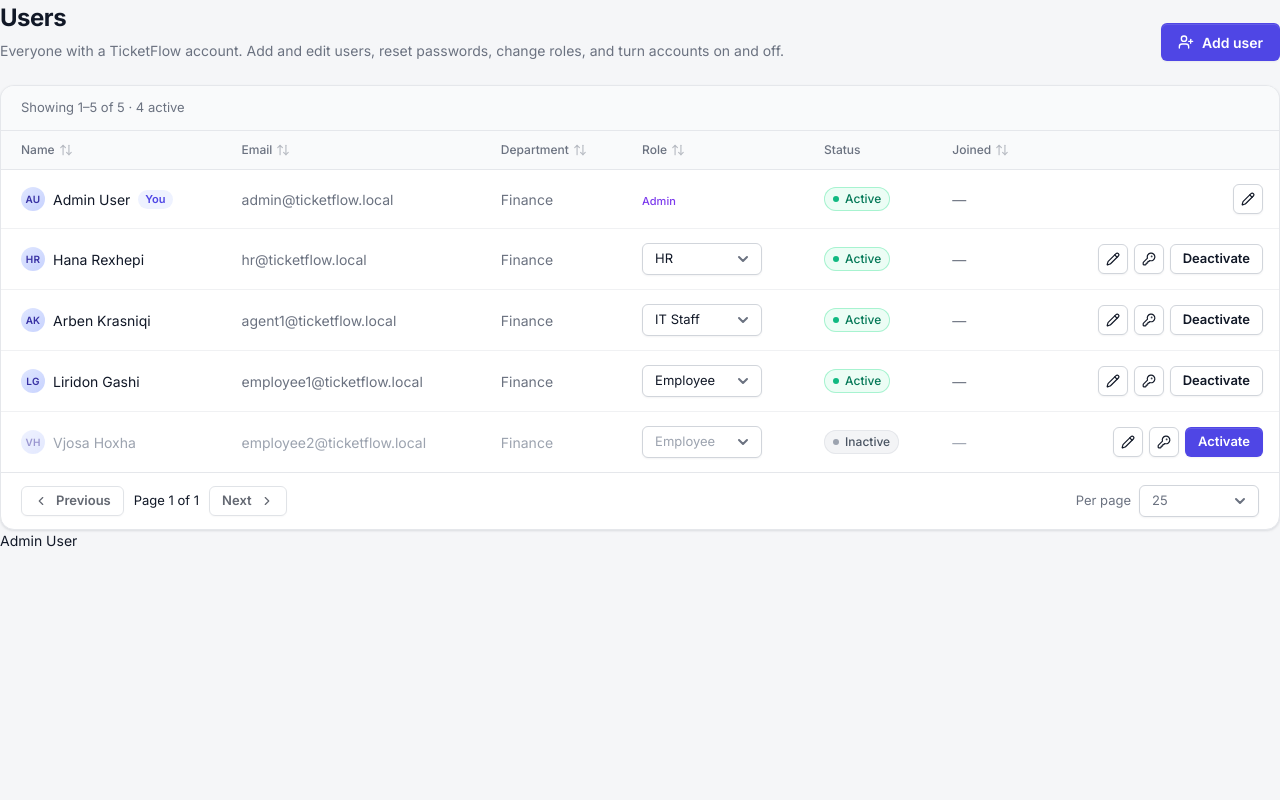
Edit user form › admin editing their own row: no role dropdown, and the logged-in user gets the new name
The width and height of the screenshot is (1280, 800).
Check: the table is shown, box [1,131,1279,472]
Click the button named "Edit Admin User" at (1248, 199), box [1233,184,1263,214]
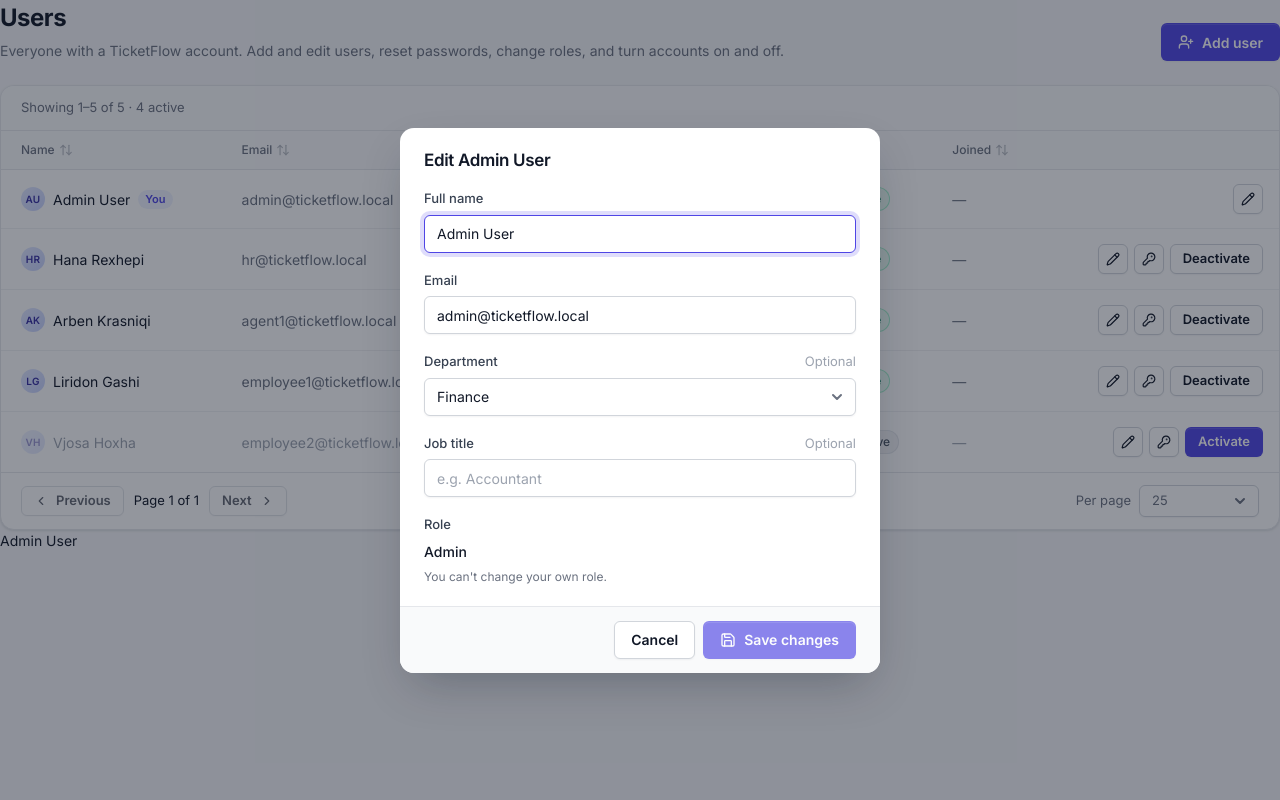
Replace the text in the field labelled "Full name" with "Head Admin" at (640, 234), box [424,214,856,252]
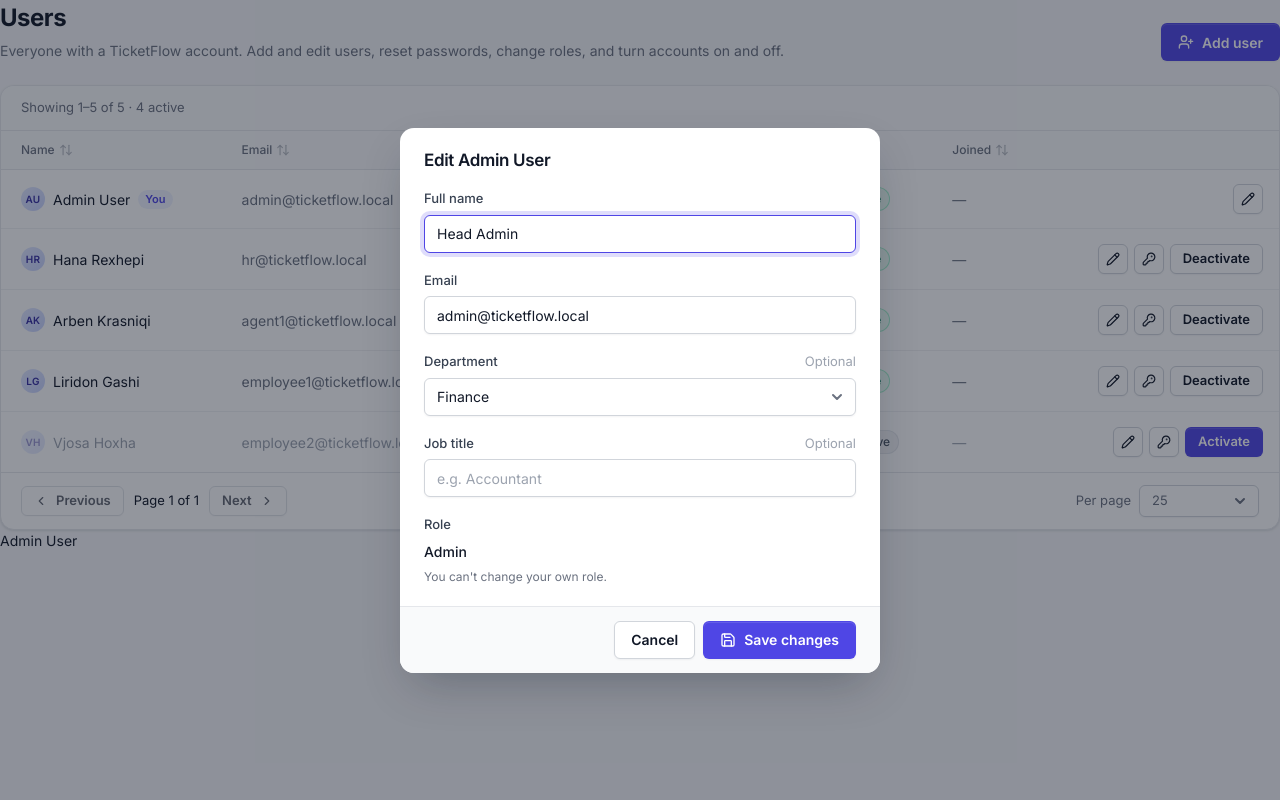
Click the button "Save changes" at (780, 640), box [703,620,856,658]
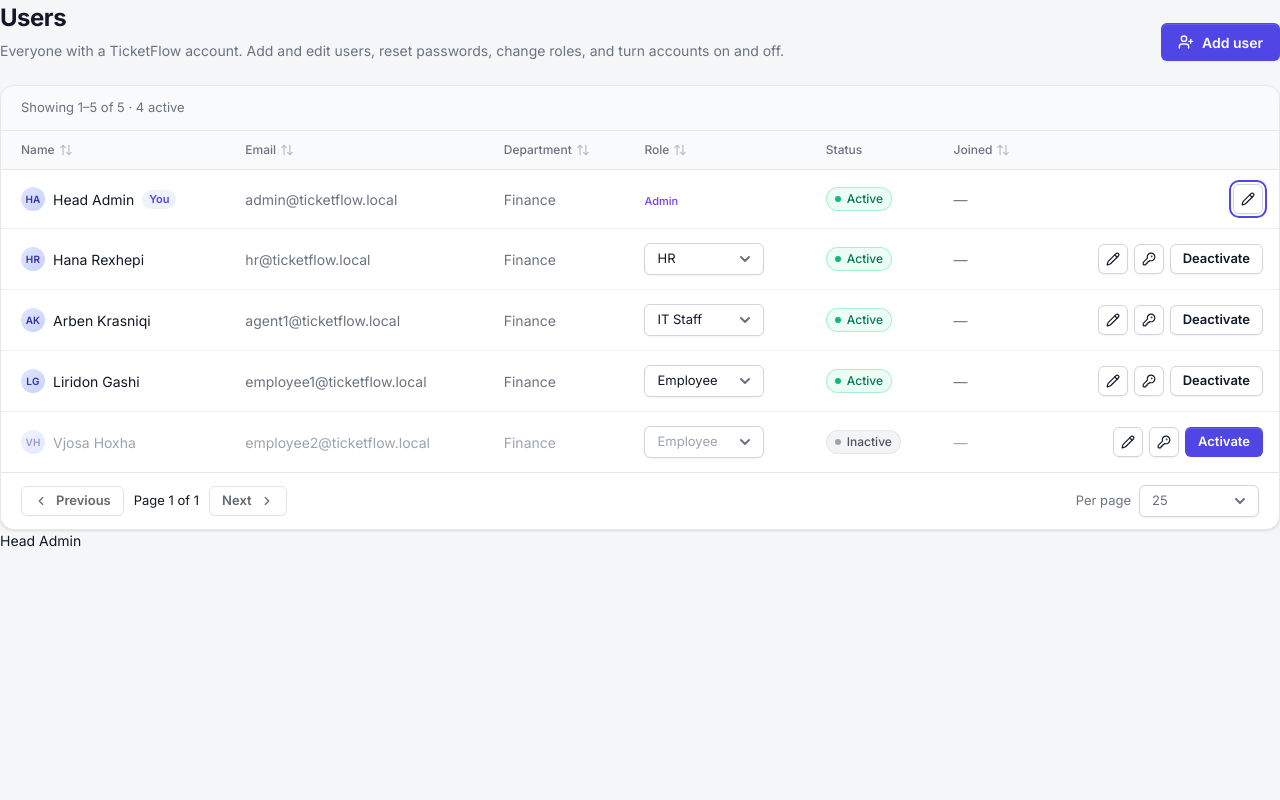
Check: the text with test id "session-name" reads "Head Admin", box [0,532,81,549]
